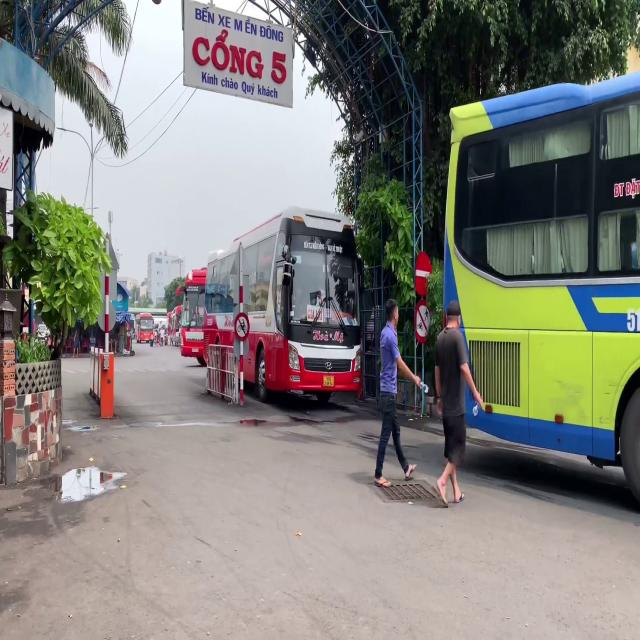bien_vang: (323, 374, 334, 388)
